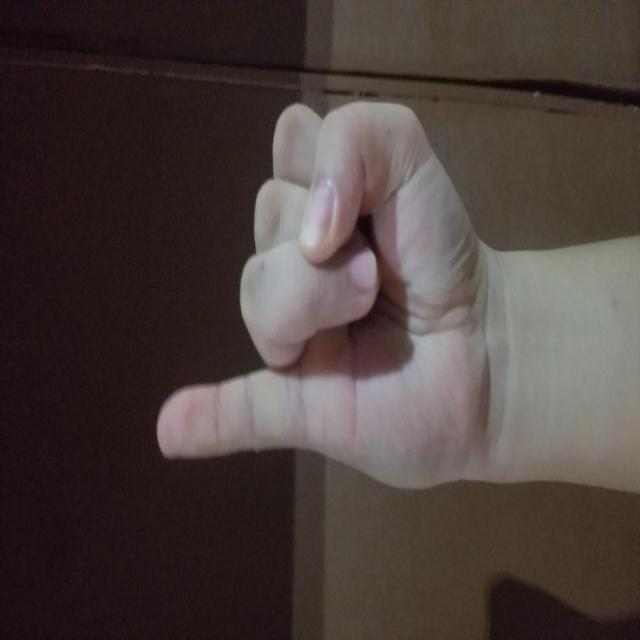I: (148, 156, 545, 482)
